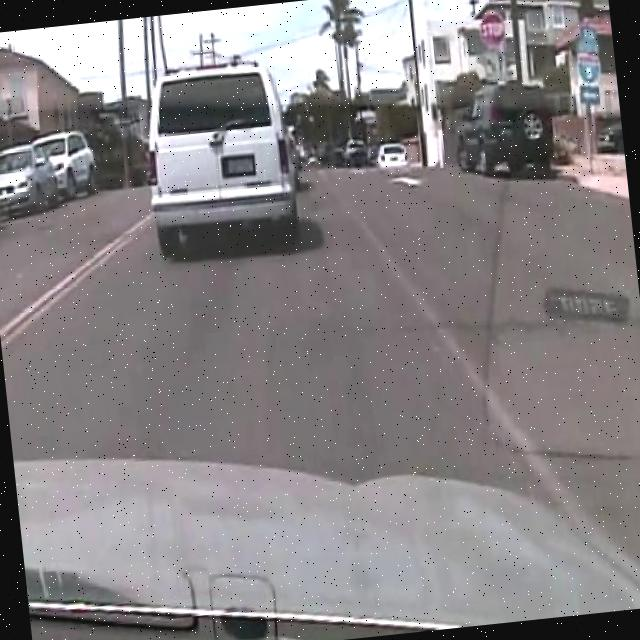Stop: (475, 3, 511, 52)
